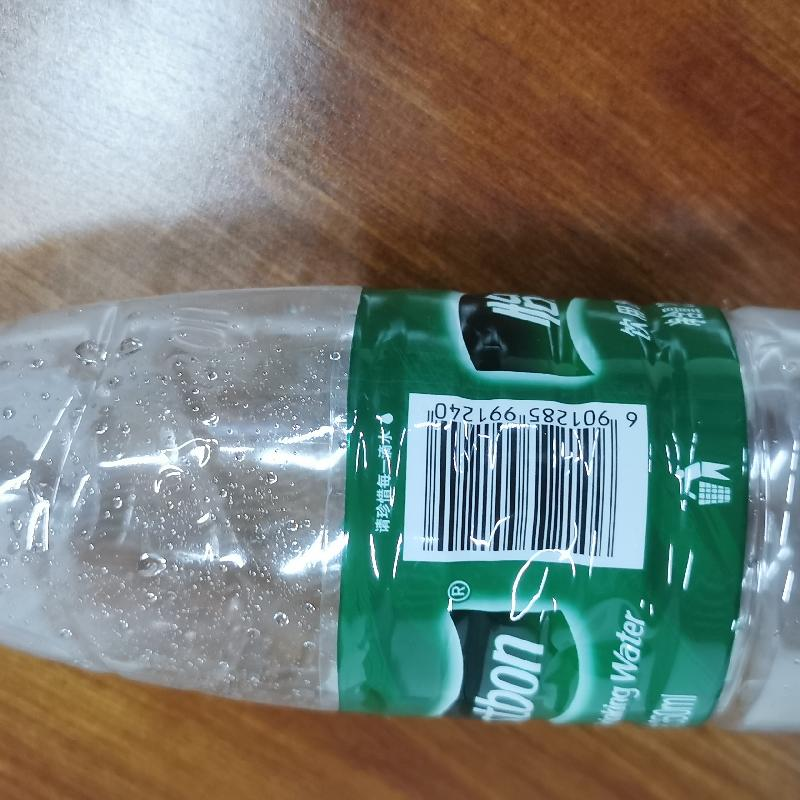bottles: (5, 278, 799, 733)
